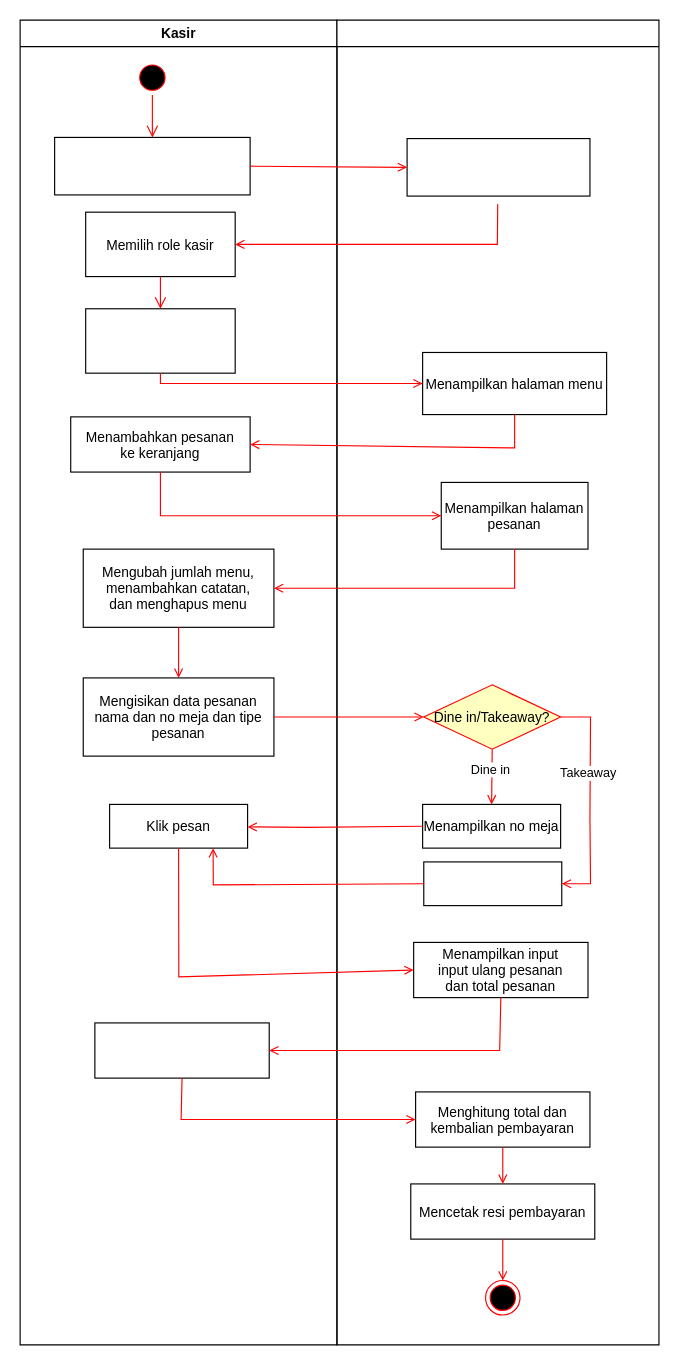
This 680x1365 diagram has some shape labels left out. Here are the shapes that lost their labels. From the top down, the box of each, then its label:
(53, 136, 250, 195): Membuka website Portal admin/kasir
(406, 137, 590, 196): Menampilkan halaman portal
(85, 308, 235, 373): Mengakses halaman menu
(336, 19, 659, 1345): System
(423, 861, 562, 906): Melewati No meja
(94, 1022, 269, 1078): Mengisi total pembayaran
